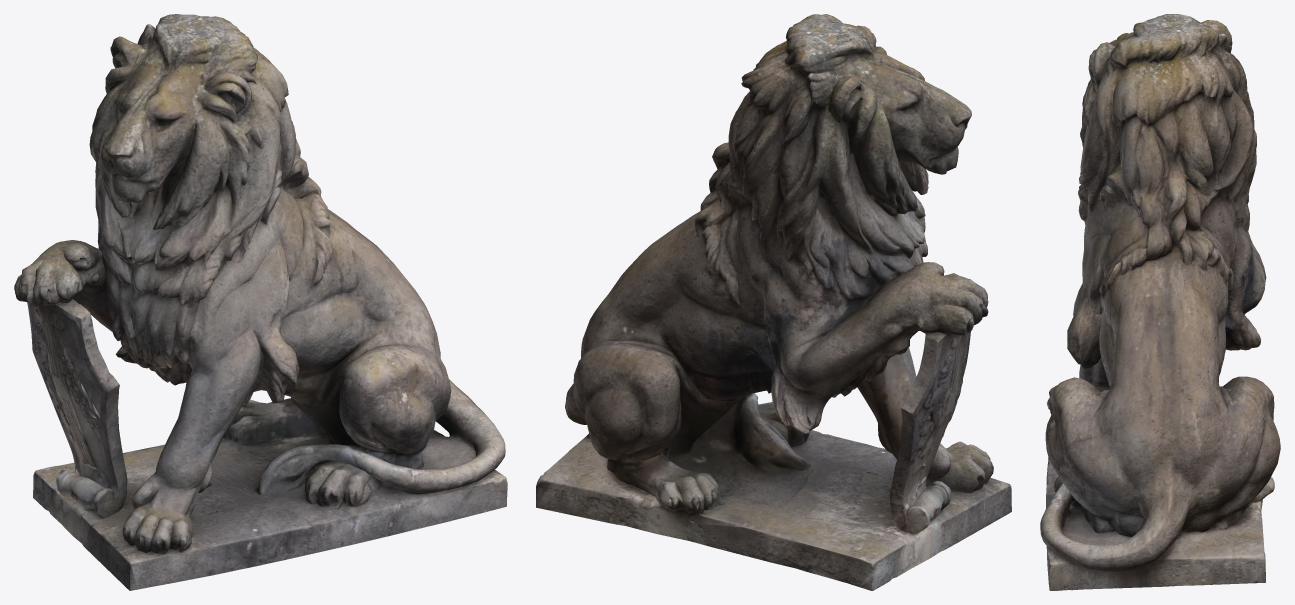
The model's file is lion1.glb.
3 views of the same model, side by side, from view 1: azimuth 30°, elevation 25°; view 2: azimuth 150°, elevation 25°; view 3: azimuth 270°, elevation 25° (orthographic). The views are drawn at different scales.
Parts seen in each view (by area): view 1: Object_2; view 2: Object_2; view 3: Object_2.
Part boxes in pixels (x1,y1,x2,y2): Object_2: (14,14,507,590); Object_2: (536,14,1011,590); Object_2: (1040,14,1280,590).
Bounding box in the file's own units: 1.3 × 1.4 × 0.6696.
1 material, 1 textured.
